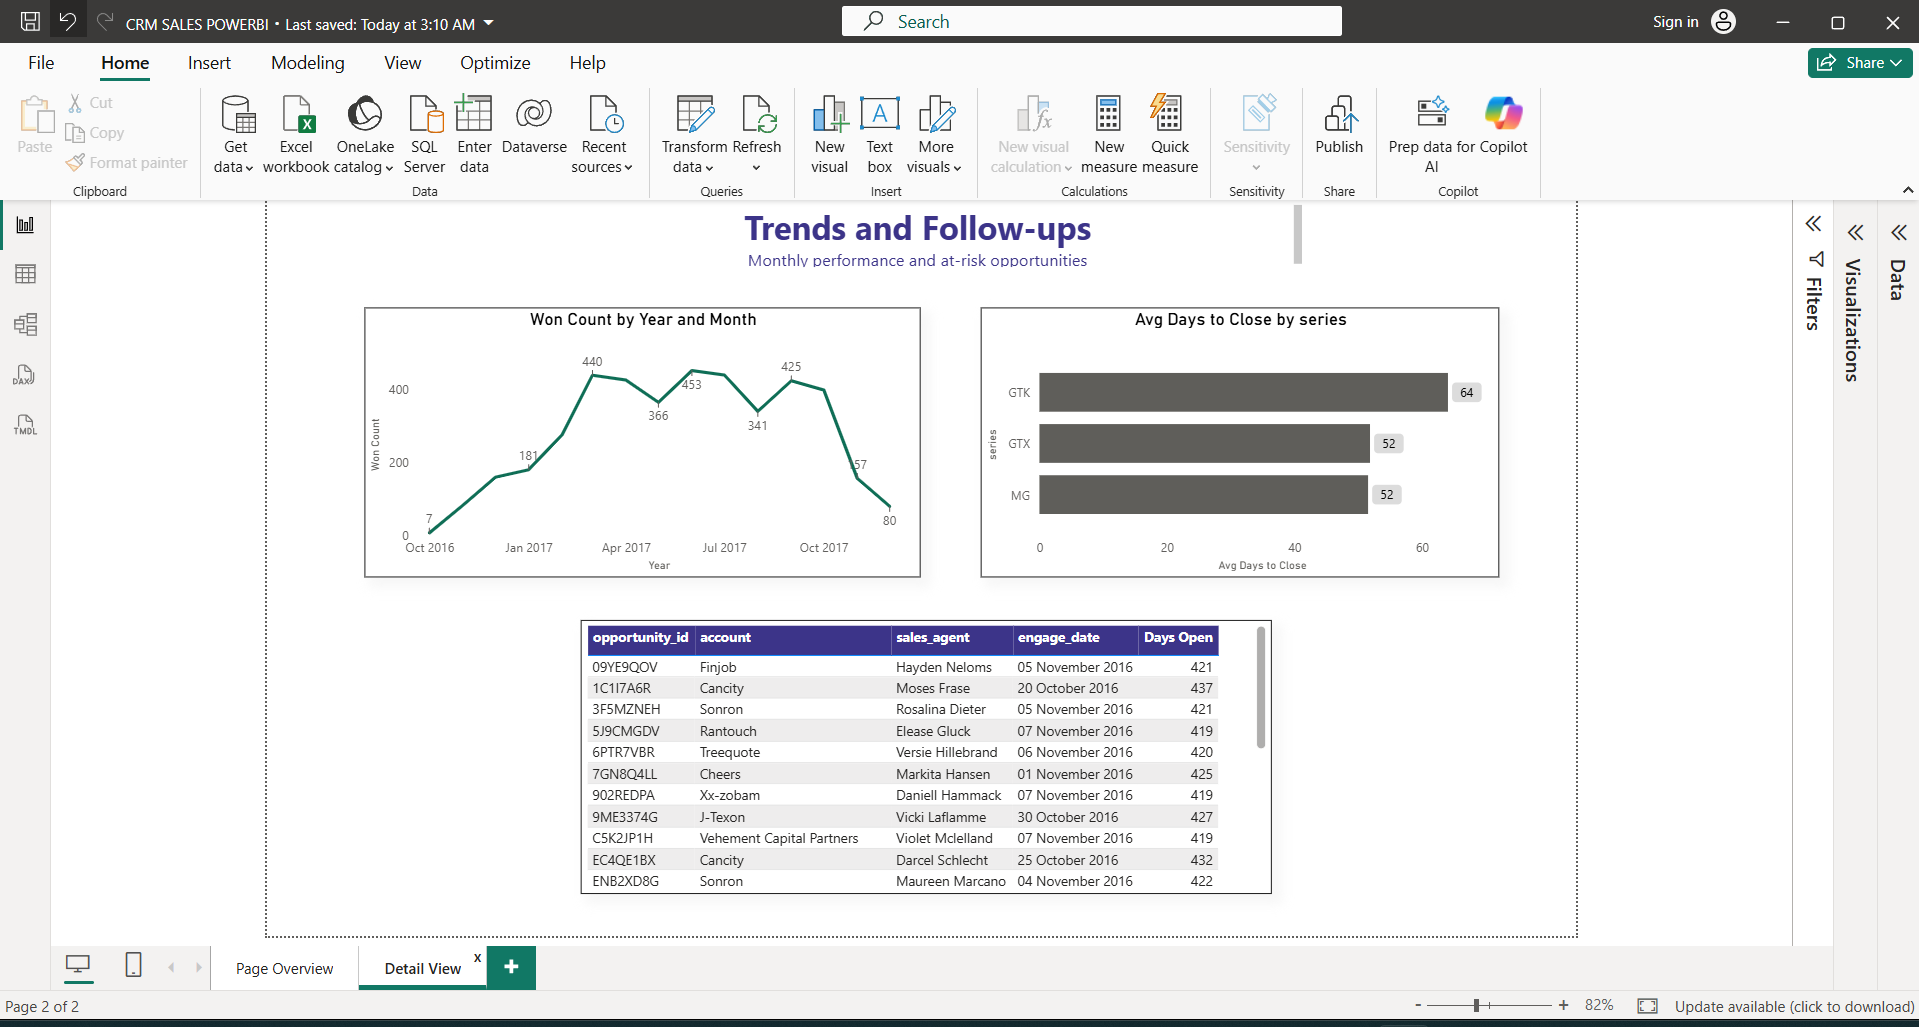

The dashboard page shown, as its layout file describes it:
{"tool":"powerbi","page":{"name":"Detail View","canvas":[1280,720],"ordinal":1},"visuals":[{"type":"lineChart","fields":{"Y":["_Measures.Won Count"],"Category":["DateTable.Date.Variation.Date Hierarchy.Year","DateTable.Date.Variation.Date Hierarchy.Month"]},"box":[95.4,105.2,544.2,264.1],"z":0},{"type":"textbox","box":[262.8,0,754.5,70.9],"z":1000},{"type":"clusteredBarChart","fields":{"Category":["products FILE.series"],"Y":["_Measures.Avg Days to Close"]},"box":[698.2,105.2,507.5,264.1],"z":2000},{"type":"tableEx","fields":{"Values":["sales_pipeline FILE.opportunity_id","sales_pipeline FILE.account","sales_pipeline FILE.sales_agent","sales_pipeline FILE.engage_date","sales_pipeline FILE.Days Open"]},"box":[306.9,410.9,676.2,267.8],"z":4000}]}

Visuals, with their boxes on the page's 1280x720 design canvas (x1, y1, x2, y2). These are canvas units, not pixel positions in the 1919x1027 screenshot, which may show the page scaled, cropped or inside an application window:
lineChart - _Measures.Won Count x DateTable.Date.Variation.Date Hierarchy.Year: detection(95, 105, 640, 369)
textbox: detection(263, 0, 1017, 71)
clusteredBarChart - products FILE.series x _Measures.Avg Days to Close: detection(698, 105, 1206, 369)
tableEx - sales_pipeline FILE.opportunity_id x sales_pipeline FILE.account: detection(307, 411, 983, 679)
